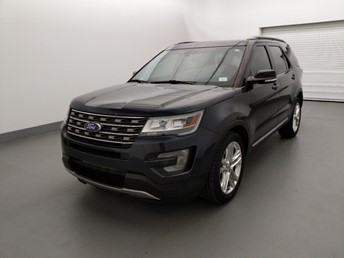Ford Explorer: (61, 38, 304, 204)
